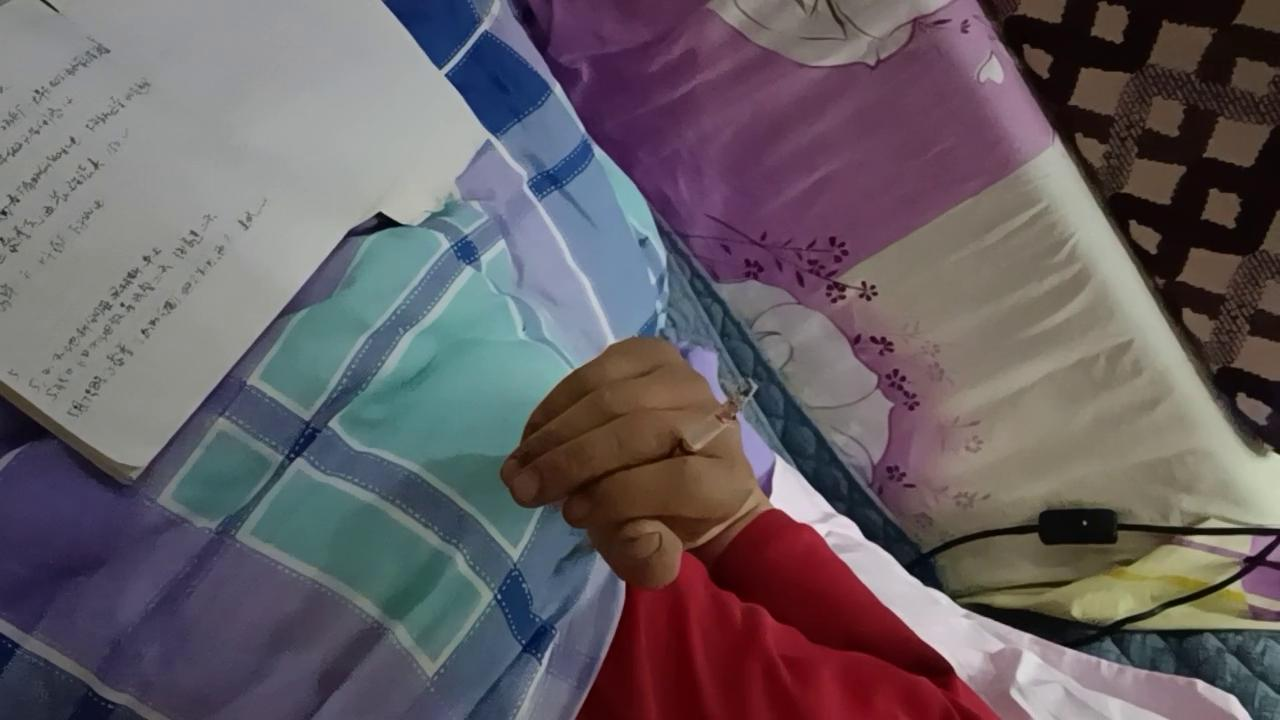smoke: (666, 379, 759, 468)
